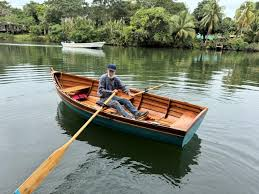boat: (49, 66, 208, 148)
